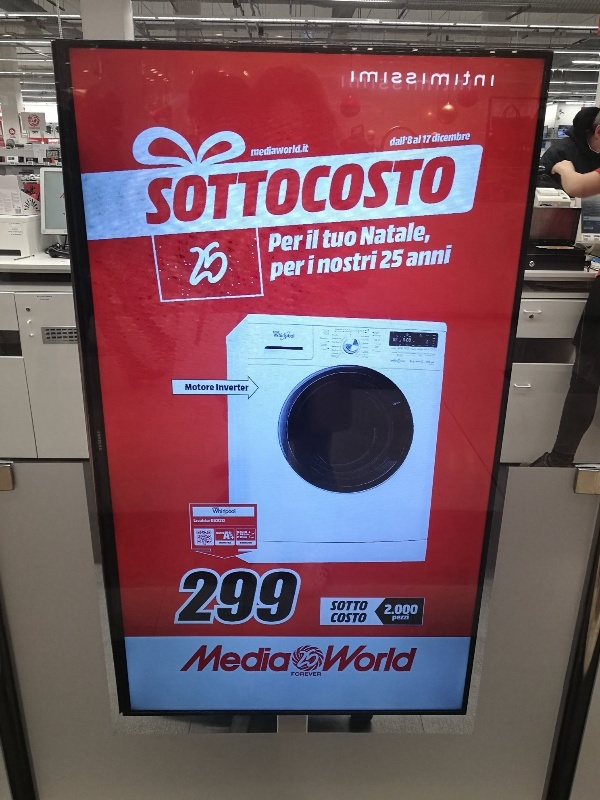text: (161, 153, 176, 228), (177, 153, 192, 228), (193, 153, 208, 228), (209, 153, 224, 228), (225, 153, 240, 228), (241, 153, 256, 228), (257, 153, 272, 228), (273, 153, 288, 228), (289, 153, 304, 228), (305, 153, 320, 228), (321, 153, 336, 228), (337, 153, 352, 228), (353, 153, 368, 228), (369, 153, 384, 228), (385, 153, 400, 228), (401, 153, 416, 228), (417, 153, 432, 228), (433, 153, 448, 228), (193, 567, 208, 628), (209, 567, 224, 628), (225, 567, 240, 628), (241, 567, 256, 628), (257, 567, 272, 628), (273, 567, 288, 628), (148, 153, 160, 228), (289, 567, 303, 628), (193, 239, 208, 288), (209, 239, 224, 288), (449, 153, 458, 228), (182, 567, 192, 628), (225, 239, 235, 288), (209, 645, 224, 674), (225, 645, 240, 674), (241, 645, 256, 674), (257, 645, 272, 674), (273, 645, 288, 674), (337, 646, 352, 675), (353, 646, 368, 675), (369, 646, 384, 675), (385, 646, 400, 675), (401, 646, 416, 675), (369, 221, 384, 246), (385, 221, 400, 246), (401, 221, 416, 246), (289, 260, 305, 282), (417, 221, 431, 246), (321, 250, 336, 273), (337, 250, 352, 273), (353, 250, 368, 273), (273, 260, 288, 282), (417, 245, 432, 267), (433, 245, 448, 267), (337, 229, 352, 249), (385, 249, 400, 269), (353, 71, 368, 90), (369, 71, 384, 90), (385, 71, 400, 90), (401, 71, 416, 90), (417, 71, 432, 90), (433, 71, 448, 90), (449, 71, 464, 90), (465, 71, 480, 90), (481, 71, 496, 90), (273, 234, 288, 252), (289, 234, 304, 252), (98, 432, 112, 451), (307, 229, 320, 249), (323, 229, 336, 249), (257, 143, 272, 157), (273, 143, 288, 157), (289, 143, 304, 157), (309, 256, 320, 275), (369, 250, 378, 273), (329, 646, 336, 675), (408, 245, 416, 267), (353, 601, 369, 611), (401, 605, 416, 615), (337, 601, 352, 611), (337, 613, 352, 623), (353, 613, 368, 623), (433, 133, 448, 143), (449, 133, 464, 143), (203, 645, 208, 674), (386, 605, 400, 615), (363, 221, 368, 246), (225, 532, 240, 540), (225, 384, 240, 392), (1, 192, 16, 199), (193, 384, 208, 391), (391, 136, 400, 147), (190, 239, 192, 288), (228, 532, 240, 540), (49, 151, 64, 157), (449, 245, 453, 267), (289, 645, 292, 674), (305, 672, 321, 677), (353, 229, 357, 249), (422, 135, 432, 143), (51, 147, 64, 153), (401, 136, 408, 147), (274, 334, 288, 339), (213, 509, 224, 515), (225, 509, 236, 515), (291, 672, 304, 677), (241, 384, 249, 392), (409, 136, 416, 145), (401, 249, 404, 269), (465, 133, 471, 143), (194, 519, 208, 523), (252, 143, 256, 157), (305, 143, 309, 157), (401, 615, 409, 622), (217, 384, 224, 392), (11, 193, 16, 204), (211, 519, 224, 523), (403, 339, 416, 343), (417, 135, 422, 145), (393, 615, 400, 622), (4, 198, 16, 202), (321, 344, 336, 347), (17, 193, 21, 204), (5, 205, 16, 209), (5, 209, 16, 213), (186, 384, 192, 391), (382, 249, 384, 269), (323, 333, 336, 336), (4, 202, 16, 205), (270, 234, 272, 252), (209, 384, 214, 391), (333, 601, 336, 611), (333, 613, 336, 623), (289, 334, 295, 339), (321, 338, 336, 340), (417, 646, 418, 675), (323, 330, 336, 332), (36, 296, 48, 298), (394, 338, 400, 342), (319, 250, 320, 273), (241, 542, 252, 544), (374, 332, 384, 334), (374, 335, 384, 337), (414, 135, 416, 145), (241, 531, 247, 534), (241, 536, 247, 539), (40, 299, 48, 301), (216, 533, 224, 535), (241, 534, 249, 536), (13, 204, 16, 209), (363, 342, 368, 345), (33, 128, 40, 130), (225, 542, 231, 544), (332, 355, 336, 358), (364, 339, 368, 342), (364, 351, 368, 354), (364, 355, 368, 358), (37, 152, 48, 153), (11, 234, 16, 236), (17, 234, 22, 236), (219, 542, 224, 544), (417, 605, 418, 615), (363, 347, 368, 349), (39, 150, 48, 151), (237, 531, 240, 534), (237, 536, 240, 539), (337, 355, 340, 358), (28, 159, 32, 161), (49, 296, 53, 298), (209, 519, 211, 523), (337, 338, 341, 340), (332, 346, 336, 348), (337, 346, 341, 348), (332, 350, 336, 352), (332, 353, 336, 355), (9, 232, 16, 233), (10, 136, 16, 137), (10, 138, 16, 139), (29, 128, 32, 130), (17, 232, 23, 233), (237, 534, 240, 536), (365, 336, 368, 338), (334, 338, 336, 340), (332, 342, 336, 343), (337, 353, 339, 355), (13, 229, 16, 230), (333, 335, 336, 336), (337, 342, 340, 343), (33, 159, 34, 161), (49, 299, 50, 301), (337, 350, 338, 352), (17, 229, 18, 230), (337, 335, 338, 336)
